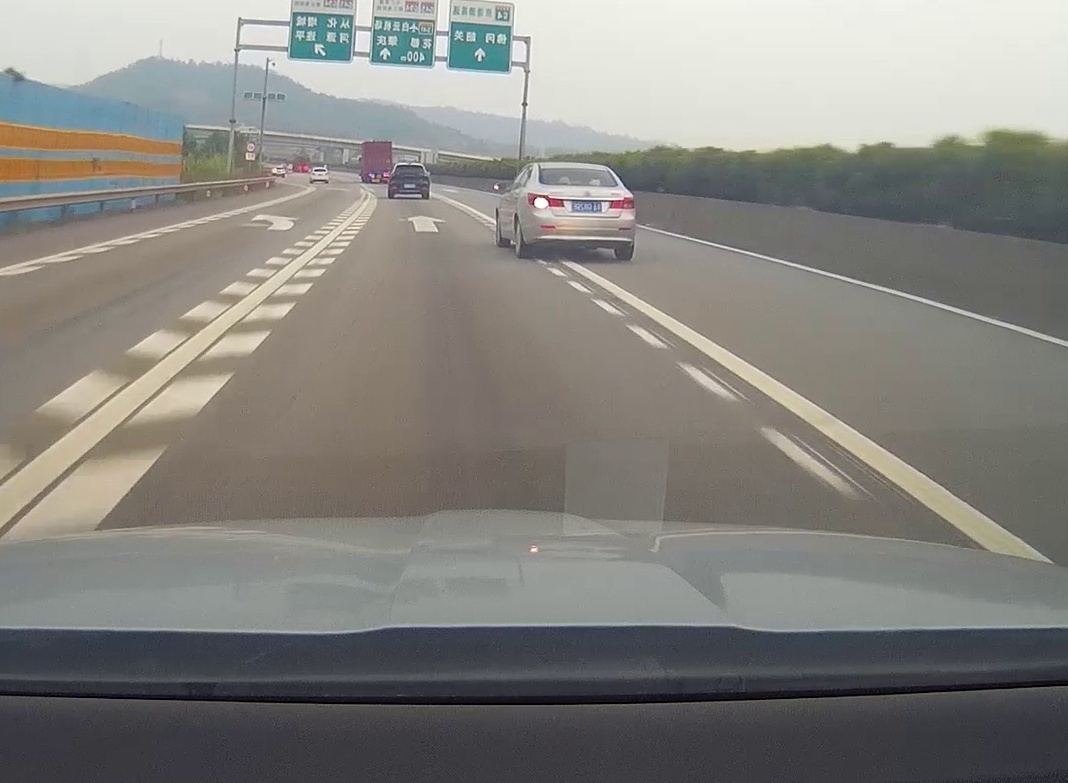L_light: (528, 193, 566, 208), (390, 174, 398, 178)
R_light: (610, 197, 635, 209), (420, 175, 428, 179)
T_light: (569, 167, 581, 171), (406, 165, 412, 167)
day-left: (525, 162, 636, 260)
day-no: (388, 163, 430, 199)
